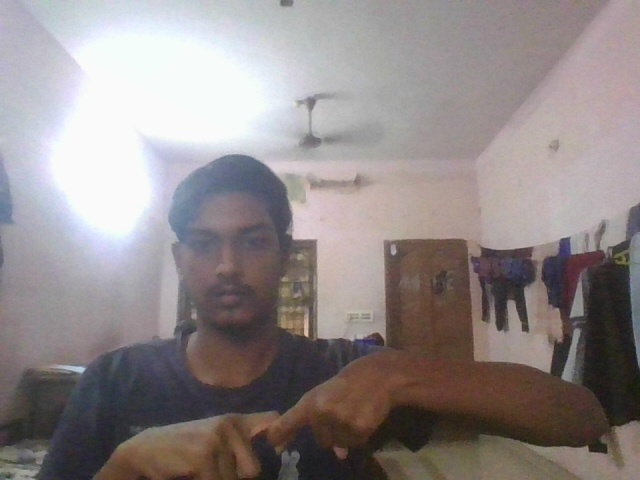friend: (117, 350, 431, 480)
